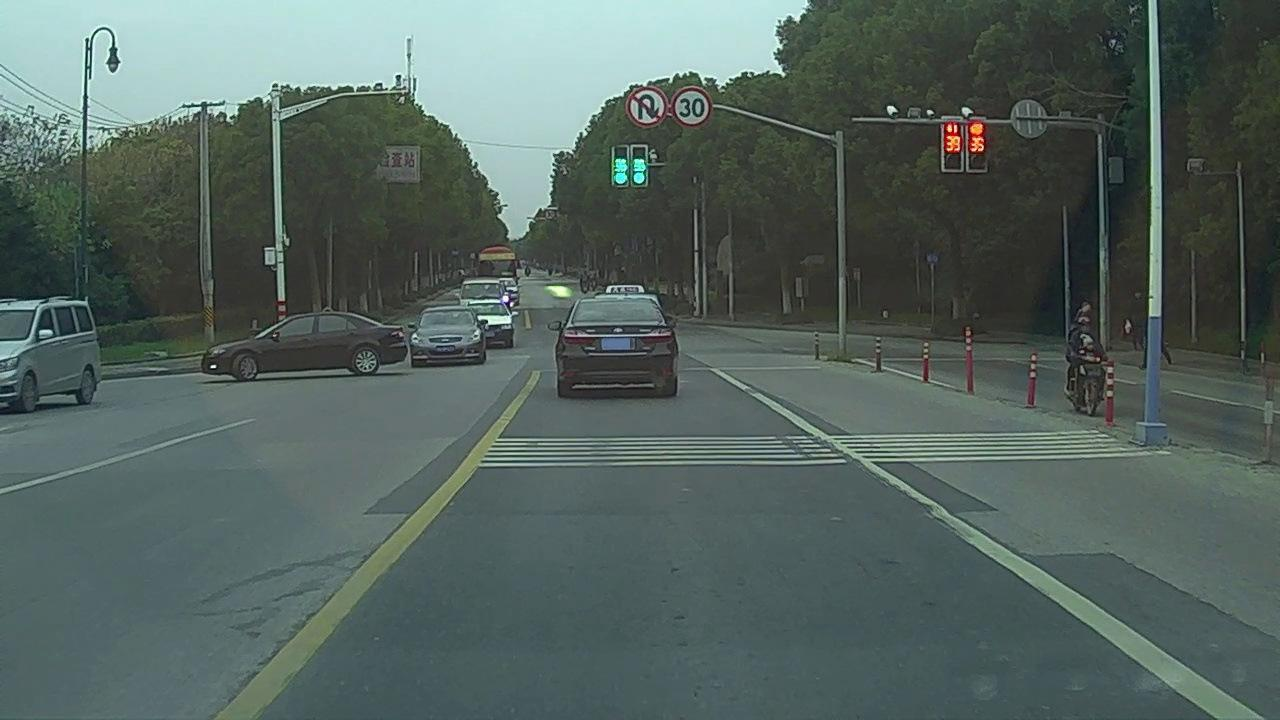traffic_light: (944, 118, 961, 170), (969, 115, 985, 170), (632, 147, 647, 185), (615, 144, 628, 186)
